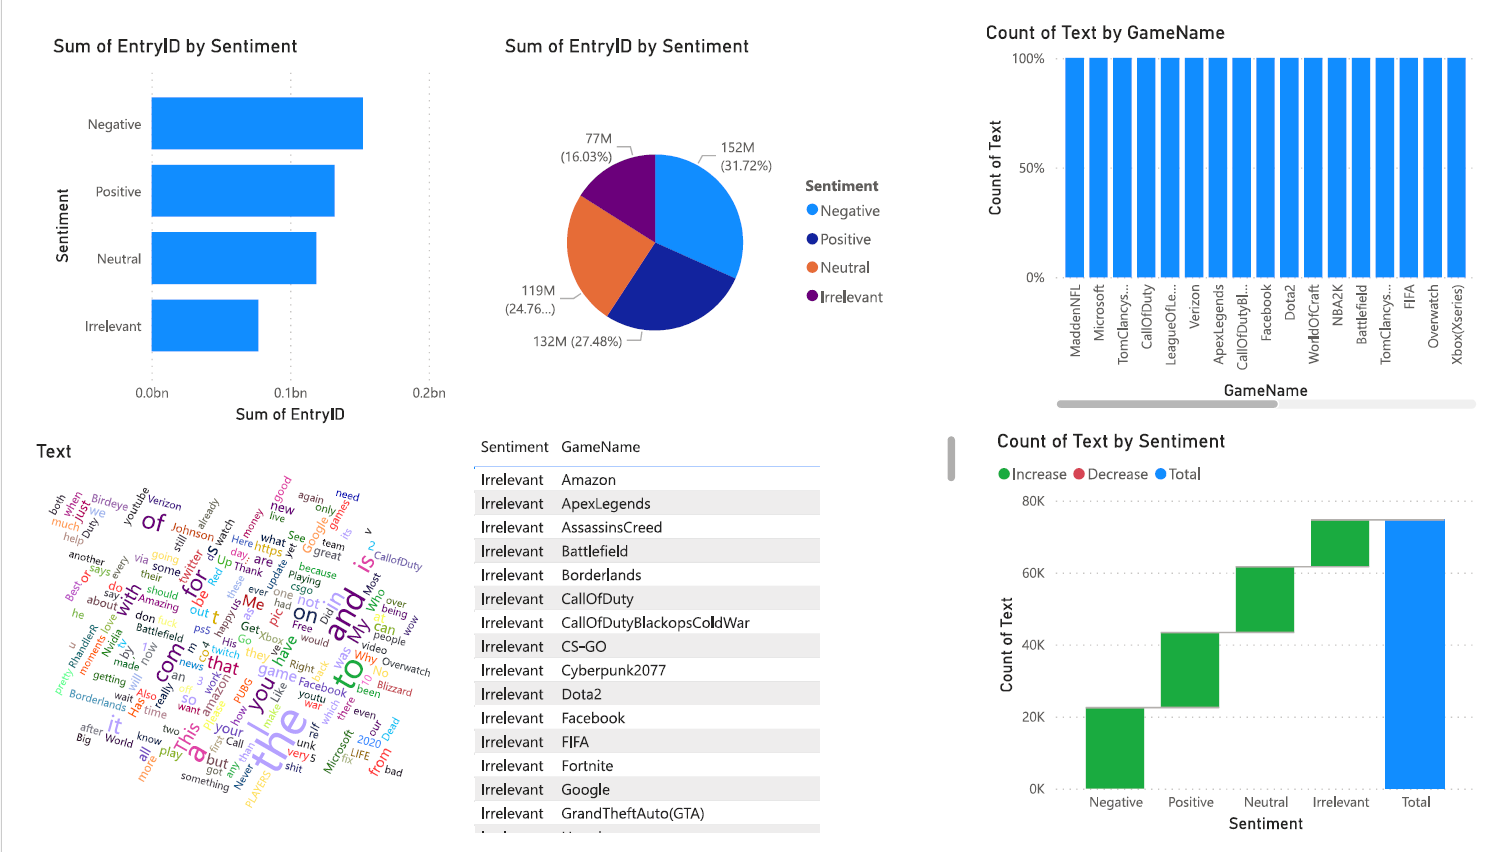

The page's visual inventory and layout, read from the dashboard file:
{"tool":"powerbi","page":{"name":"SentimentViz","canvas":[1280,720],"ordinal":0},"visuals":[{"type":"barChart","fields":{"Category":["twitter_training.Sentiment"],"Y":["twitter_training.EntryID"]},"box":[16.5,12.3,356.8,347.2],"z":0},{"type":"pieChart","fields":{"Category":["twitter_training.Sentiment"],"Y":["twitter_training.EntryID"]},"box":[414.4,12.3,356.8,347.2],"z":1000},{"type":"WordCloud1447959067750","fields":{"Category":["twitter_training.Text"]},"box":[1.4,369.1,387,351.3],"z":2000},{"type":"tableEx","fields":{"Values":["twitter_training.Sentiment","twitter_training.GameName"]},"box":[387,359.5,435,360.9],"z":3000},{"type":"hundredPercentStackedColumnChart","fields":{"Category":["twitter_training.GameName"],"Y":["twitter_training.Text"]},"box":[838.4,0,441.9,347.2],"z":4000},{"type":"waterfallChart","fields":{"Category":["twitter_training.Sentiment"],"Y":["twitter_training.Text"]},"box":[848,359.5,432.2,360.9],"z":5000}]}

Visuals, with their boxes in screenshot pixels (x1, y1, x2, y2), scaled from the page's 1280x720 canvas onto the 1498x852 screenshot:
barChart - twitter_training.Sentiment x twitter_training.EntryID: <region>19, 15, 437, 425</region>
pieChart - twitter_training.Sentiment x twitter_training.EntryID: <region>485, 15, 903, 425</region>
WordCloud1447959067750 - twitter_training.Text: <region>2, 437, 455, 851</region>
tableEx - twitter_training.Sentiment x twitter_training.GameName: <region>453, 425, 962, 851</region>
hundredPercentStackedColumnChart - twitter_training.GameName x twitter_training.Text: <region>981, 0, 1497, 411</region>
waterfallChart - twitter_training.Sentiment x twitter_training.Text: <region>992, 425, 1497, 851</region>
